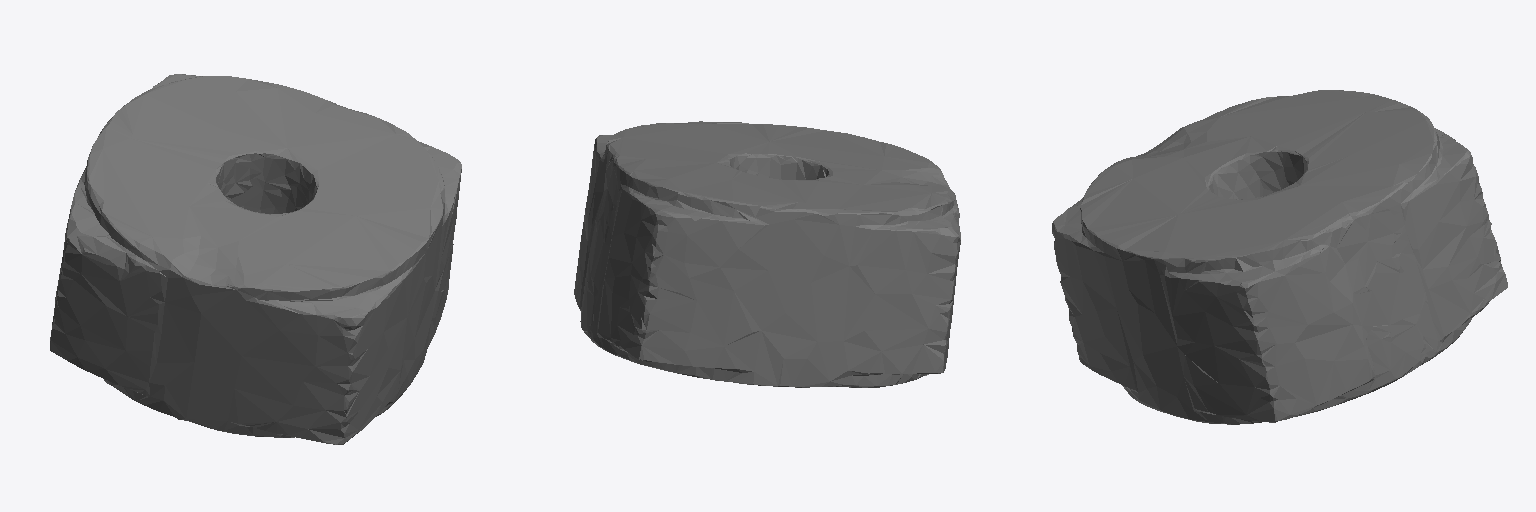
The picture shows the model from 3 angles: view 1: azimuth 30°, elevation 25°; view 2: azimuth 150°, elevation 25°; view 3: azimuth 270°, elevation 25°; orthographic projection.
Parts seen in each view (by area): view 1: Polygonal_Model_1 Triangles_1; view 2: Polygonal_Model_1 Triangles_1; view 3: Polygonal_Model_1 Triangles_1.
Boxes of the visible parts, <box> form: Polygonal_Model_1 Triangles_1: <box>50,74,461,444</box>; Polygonal_Model_1 Triangles_1: <box>574,121,960,387</box>; Polygonal_Model_1 Triangles_1: <box>1052,90,1507,424</box>.
Size of the model in its own units: 3.32 by 1.97 by 3.44.